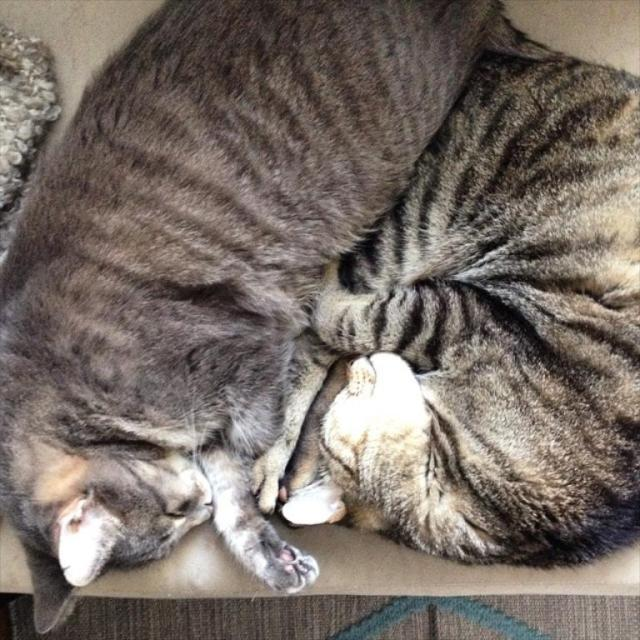Cat: (0, 0, 494, 638), (278, 11, 638, 567)
